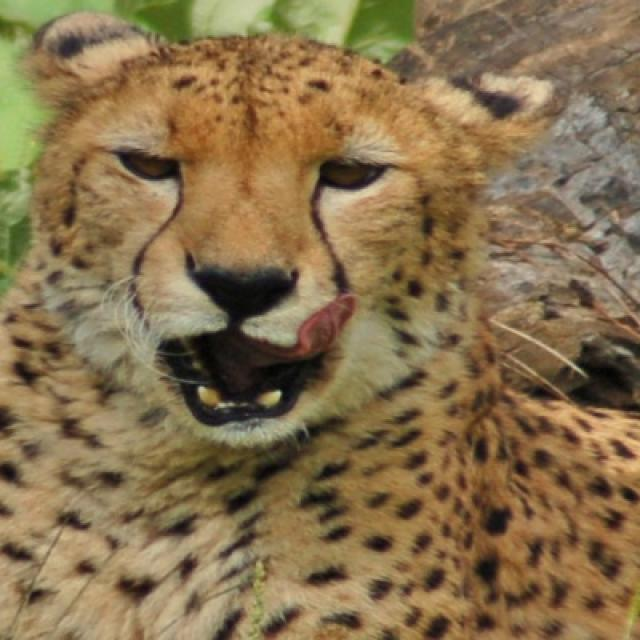Cheetah: (0, 12, 638, 638)
